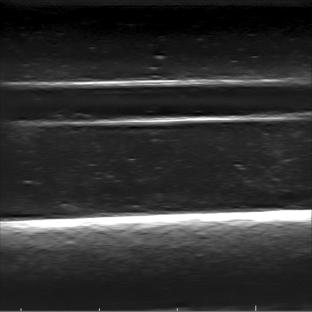vessel: (5, 77, 308, 126)
